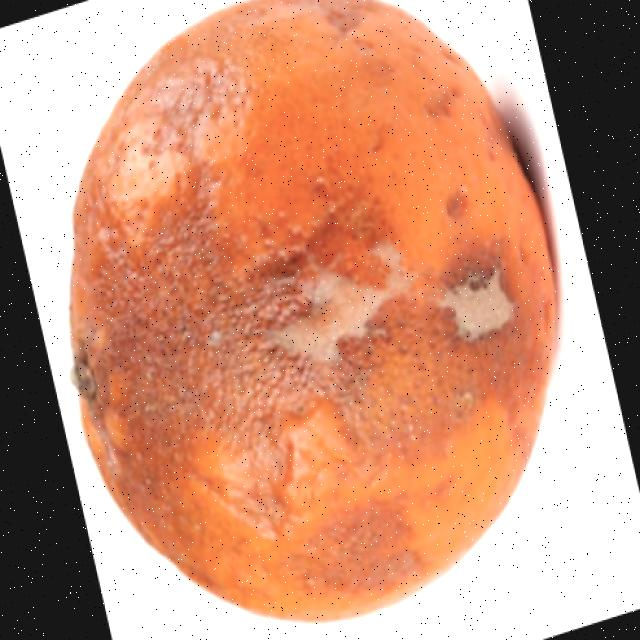overripe: (54, 0, 564, 631)
